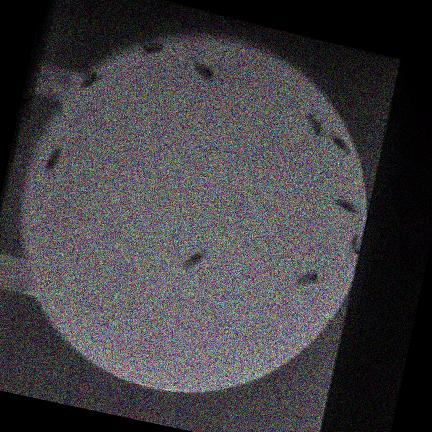fly: (46, 146, 62, 171), (330, 132, 349, 153), (194, 63, 215, 82), (182, 251, 205, 268), (335, 198, 359, 214), (81, 72, 104, 87), (309, 114, 324, 135), (297, 270, 319, 284), (141, 42, 163, 54), (351, 234, 360, 253)
